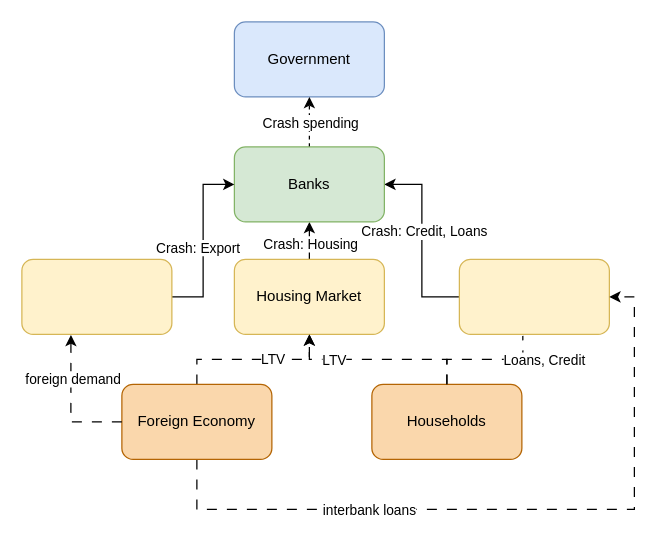
Image size: 666x541. Some labels were removed from this diagram. The box of each missing label's shape, as (x1, y1, x2, y2) in pixels:
Credit Market: (458, 258, 609, 334)
Firms: (21, 258, 172, 334)
